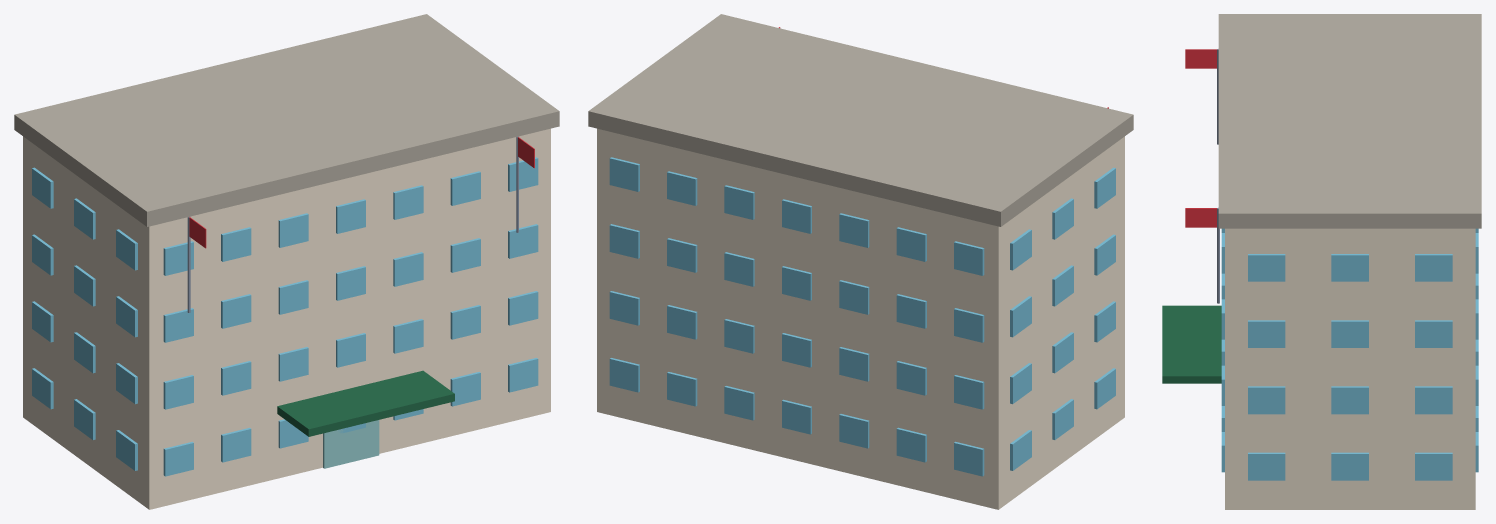
The model's file is hotel.glb.
3 views of the same model, side by side, from view 1: azimuth 30°, elevation 25°; view 2: azimuth 150°, elevation 25°; view 3: azimuth 270°, elevation 25° (orthographic).
Visible parts, largest first — view 1: hotel_wall_cream, hotel_roof_flat, hotel_window, hotel_pub_green, hotel_glass, hotel_red, hotel_metal; view 2: hotel_wall_cream, hotel_roof_flat, hotel_window; view 3: hotel_wall_cream, hotel_roof_flat, hotel_window, hotel_pub_green, hotel_red, hotel_metal.
Boxes of the visible parts, box(x1,y1,x2,y2) form: hotel_wall_cream: box(23, 128, 550, 509); hotel_roof_flat: box(14, 14, 559, 226); hotel_window: box(32, 157, 538, 476); hotel_pub_green: box(277, 370, 454, 436); hotel_glass: box(323, 420, 379, 468); hotel_red: box(189, 137, 534, 248); hotel_metal: box(187, 136, 518, 312); hotel_wall_cream: box(597, 128, 1124, 509); hotel_roof_flat: box(588, 14, 1133, 226); hotel_window: box(609, 157, 1115, 476); hotel_wall_cream: box(1225, 228, 1475, 509); hotel_roof_flat: box(1218, 14, 1481, 228); hotel_window: box(1221, 228, 1478, 480); hotel_pub_green: box(1162, 305, 1221, 383); hotel_red: box(1185, 49, 1216, 227); hotel_metal: box(1217, 49, 1219, 303).
Size of the model in its own units: 22.6 by 15.8 by 15.3.
